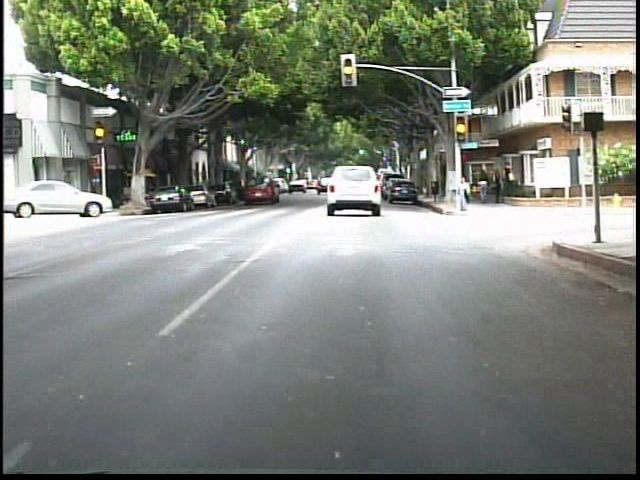person: (452, 173, 474, 213), (501, 160, 516, 196), (476, 168, 491, 203), (490, 167, 503, 206)
